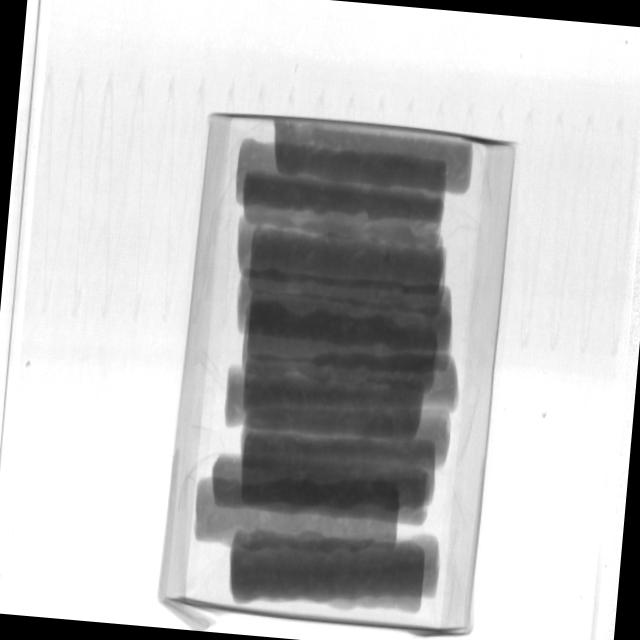ym: (385, 248, 394, 263)
